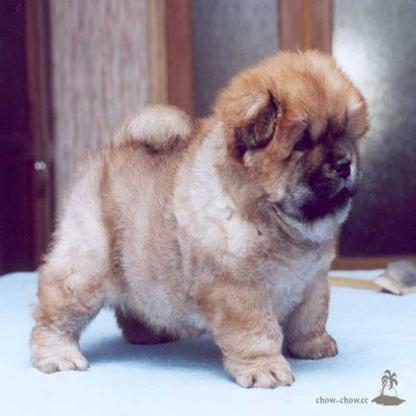chow: (26, 44, 370, 390)
